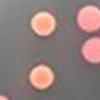orange: (29, 11, 56, 36), (28, 64, 53, 89)
pink: (76, 4, 100, 32), (80, 35, 100, 66), (0, 93, 9, 100)
